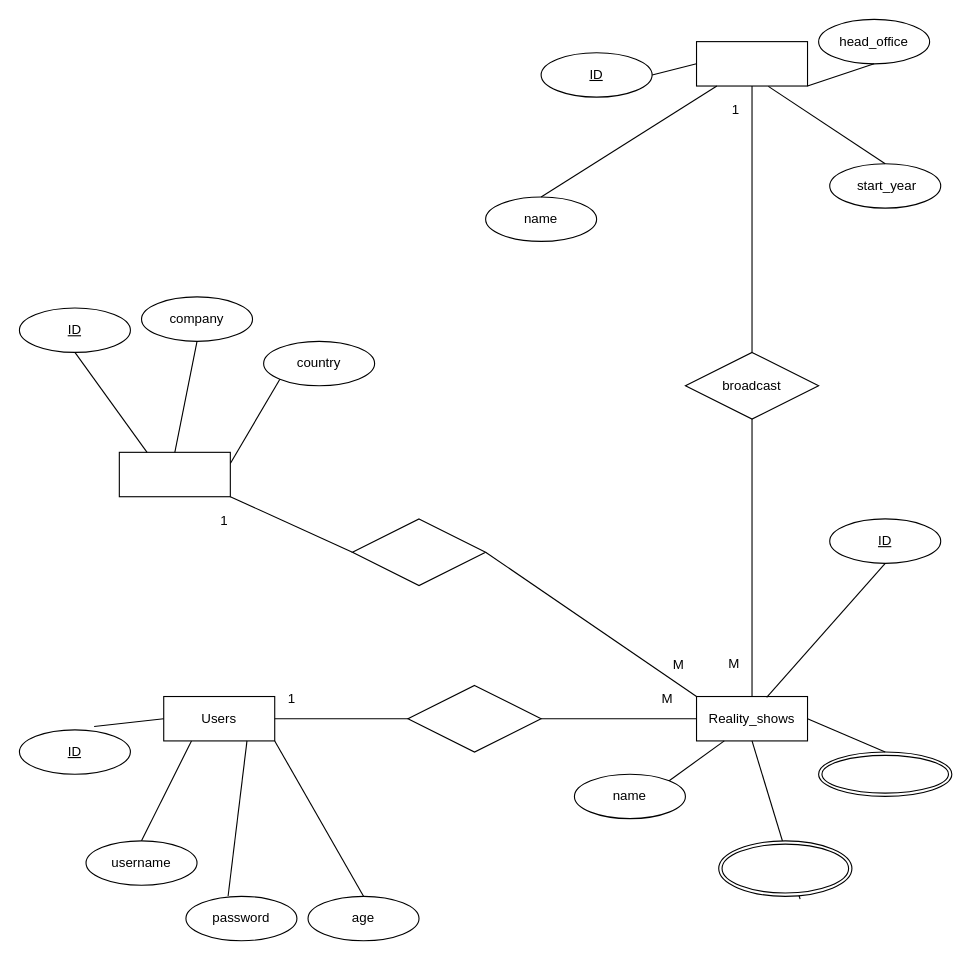
This 971x960 diagram has some shape labels left out. The shapes that lost their labels are listed below. From the top down, each one's centre as x and y in pixels, then its label:
At (x=751, y=63): "TV_channels".
At (x=174, y=474): "Producers".
At (x=418, y=552): "produce".
At (x=474, y=718): "Relationship".
At (x=885, y=773): "participants’ name".
At (x=785, y=868): "basic_information".
